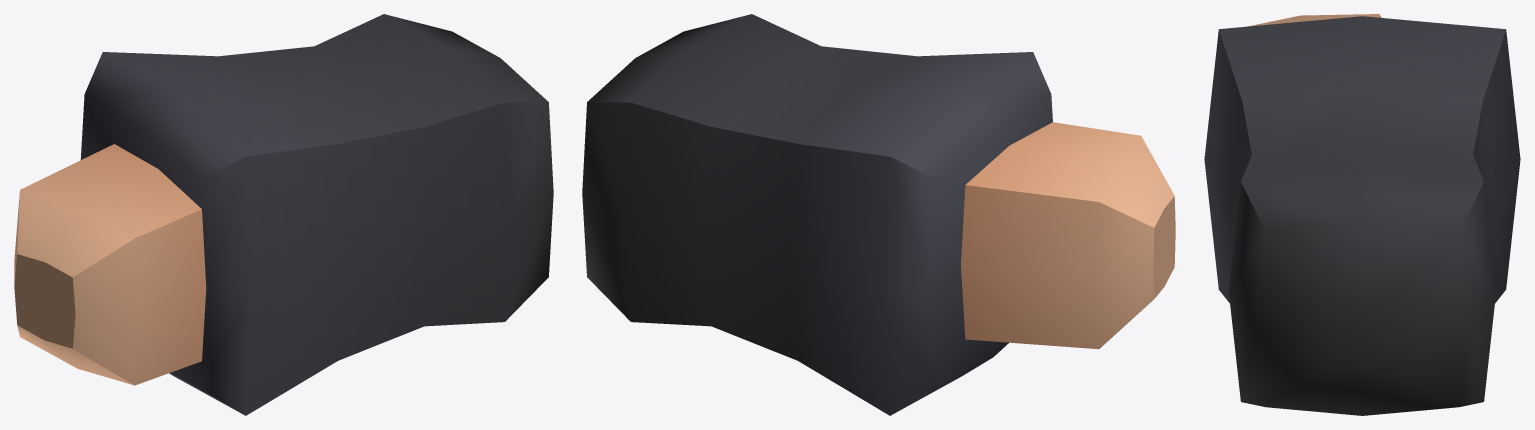
The model's file is arm-right.001_lev2.glb.
3 renders of one model, left to right at view 1: azimuth 30°, elevation 25°; view 2: azimuth 150°, elevation 25°; view 3: azimuth 270°, elevation 25°, orthographic.
Visible parts, largest first — view 1: arm-right.001_lev2; view 2: arm-right.001_lev2; view 3: arm-right.001_lev2.
Part boxes in pixels (<box>): arm-right.001_lev2: <box>14,14,553,415</box>; arm-right.001_lev2: <box>582,14,1175,415</box>; arm-right.001_lev2: <box>1204,14,1520,415</box>.
Size of the model in its own units: 0.3307 by 0.1716 by 0.1716.
1 material, 1 textured.
